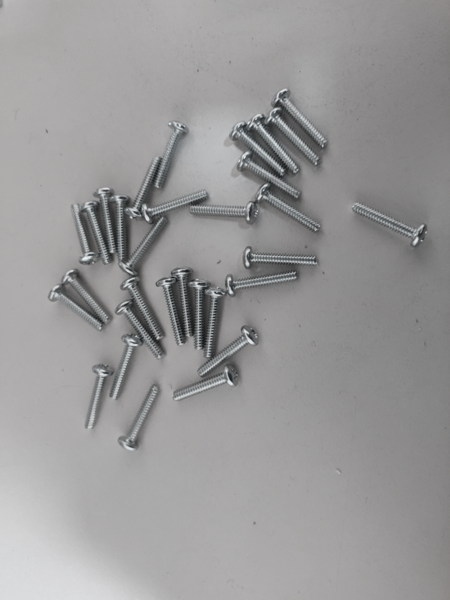longscrew: (348, 197, 428, 245), (253, 186, 325, 234), (195, 324, 261, 376), (236, 148, 298, 201), (229, 124, 291, 177), (244, 117, 302, 173), (264, 110, 322, 166), (271, 90, 329, 146), (115, 296, 167, 358), (150, 117, 190, 192), (119, 384, 160, 457), (123, 211, 169, 276), (121, 273, 165, 340), (174, 366, 242, 406), (48, 281, 99, 331), (57, 269, 108, 319), (104, 332, 142, 399), (80, 363, 115, 431), (224, 273, 306, 301), (240, 244, 323, 271), (124, 156, 159, 217), (156, 275, 185, 347), (145, 190, 208, 223), (201, 282, 227, 360), (191, 275, 217, 353), (172, 263, 198, 340), (81, 200, 111, 263), (87, 187, 117, 249), (70, 200, 97, 263), (188, 198, 262, 220), (114, 187, 129, 265)
